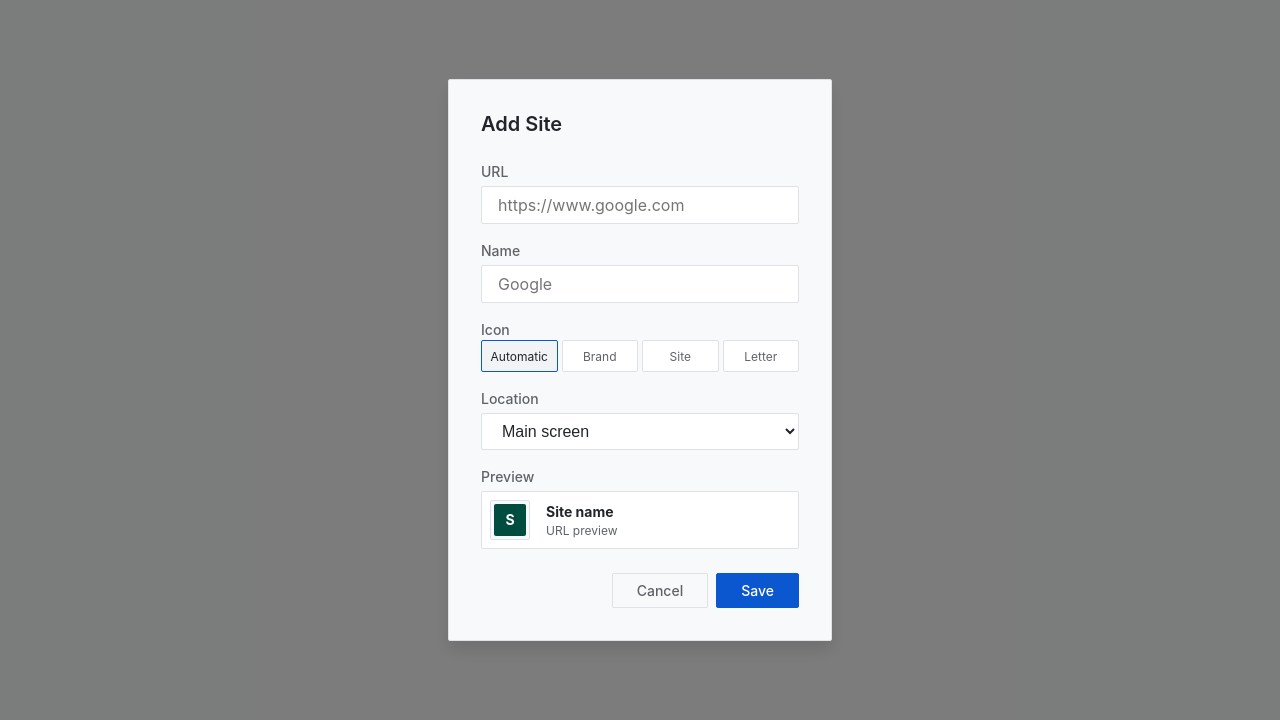
Test: SiteModal icon selector › distinguishes public, local, and private HTTP addresses
Type "http://example.com" into the field labelled "URL". click: (640, 205)
box: [481,186,799,224]
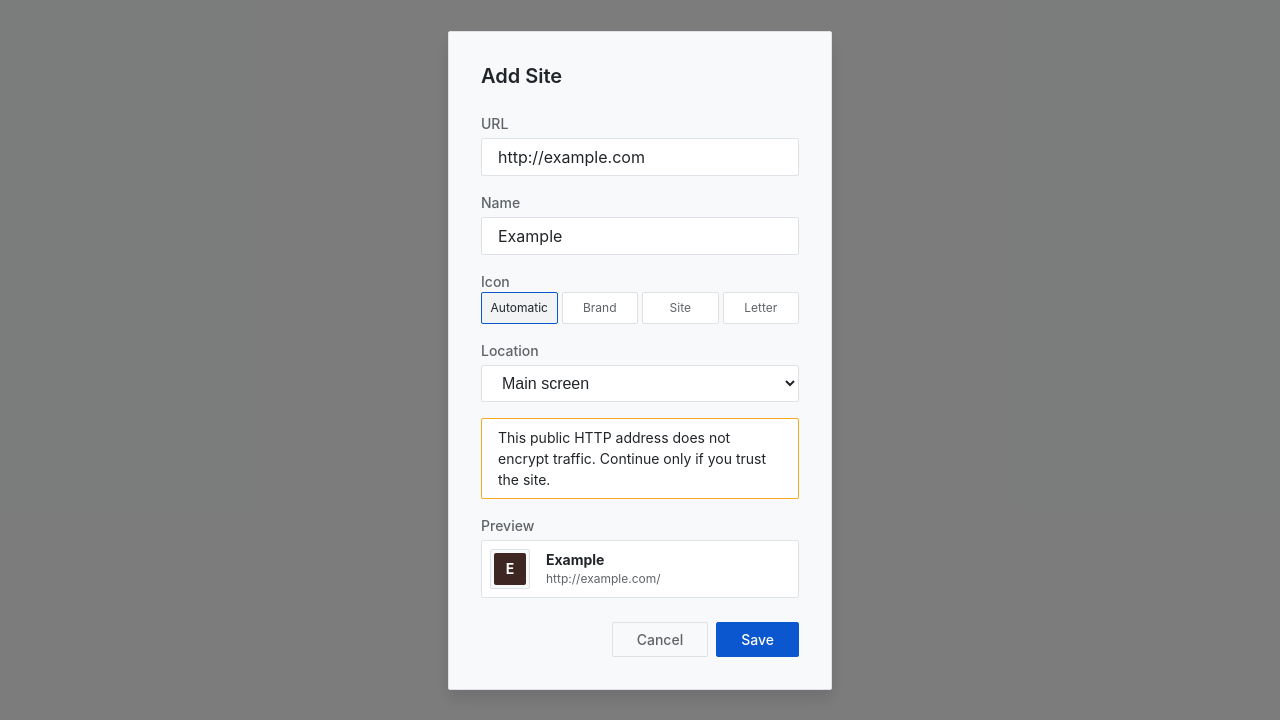
Check: the text "public HTTP address does not encrypt traffic" is shown, box [498,428,766,488]
Replace the text in the field labelled "URL" with "http://localhost:5173". click: (640, 156)
box: [481,138,799,176]
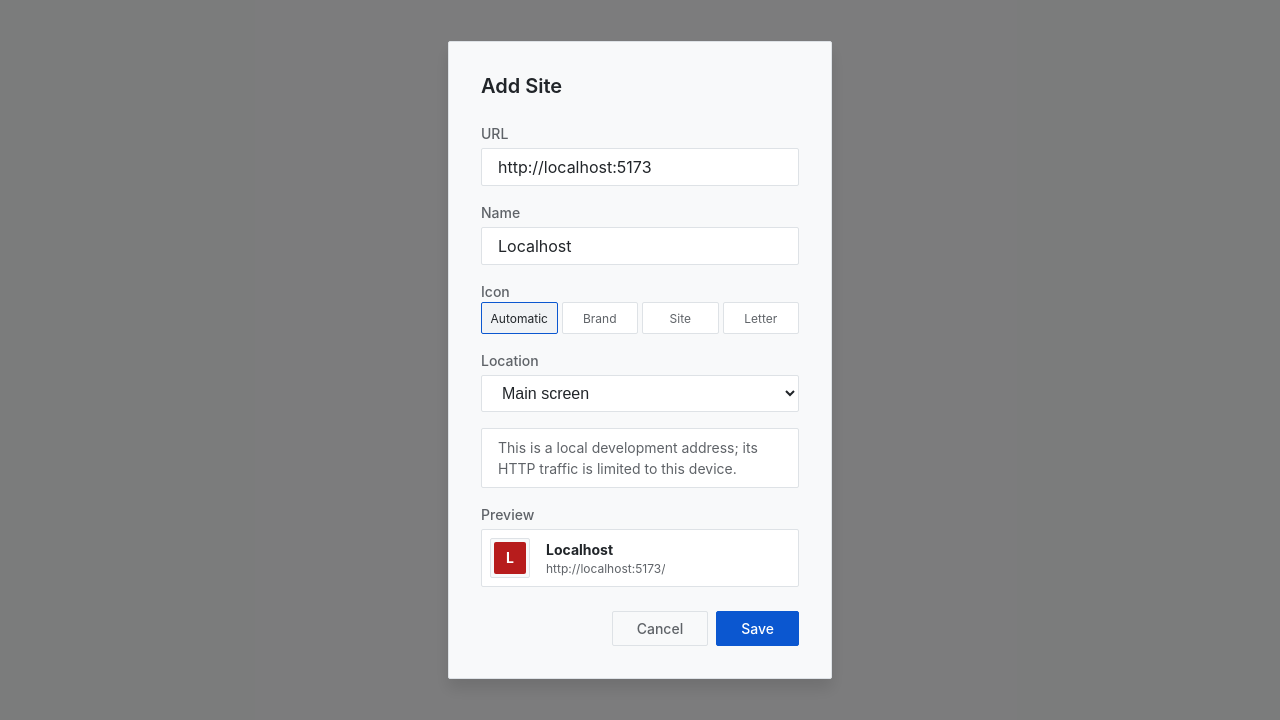
Check: the text "local development address" is shown, box [498,439,758,477]
Replace the text in the field labelled "URL" with "http://192.168.1.20". click: (640, 167)
box: [481,148,799,186]
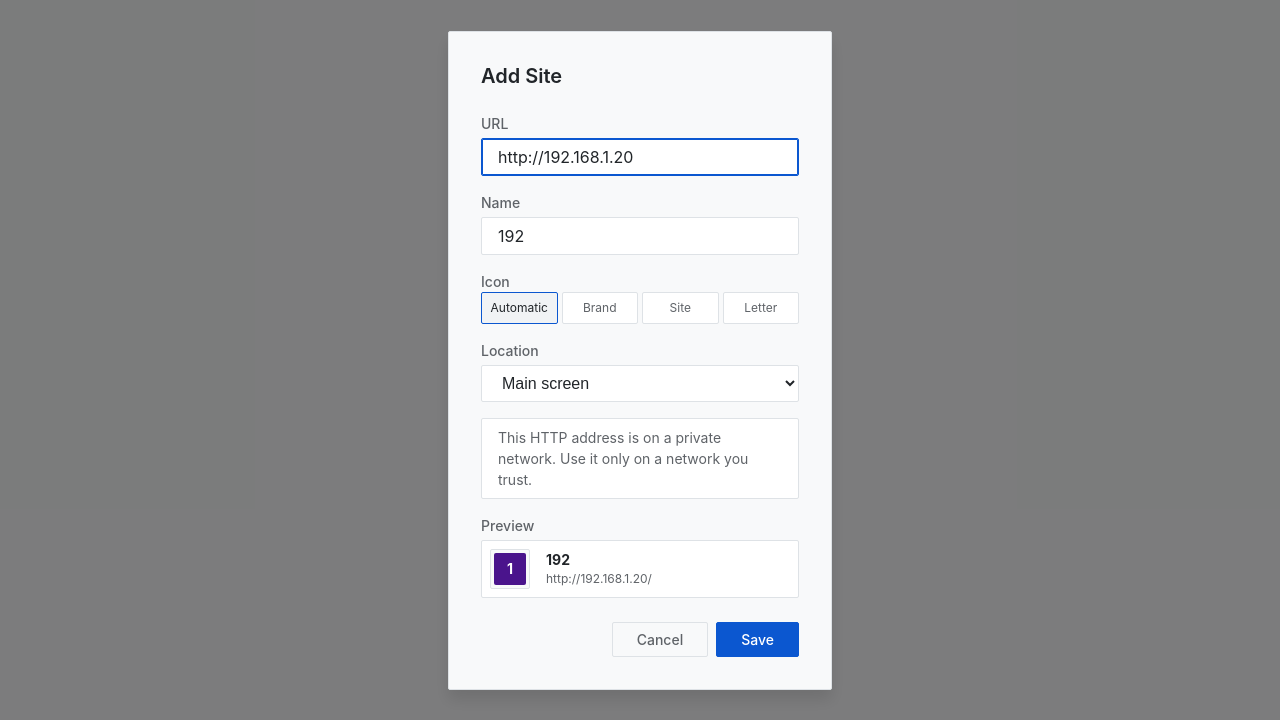
Check: the text "This HTTP address is on a private network. Use it only on a network you trust." is shown, box [481,418,799,498]
